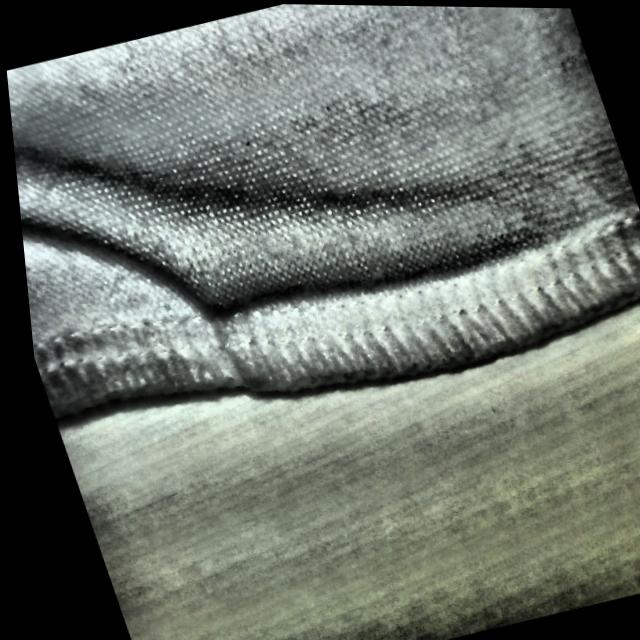seam: (72, 139, 394, 433)
